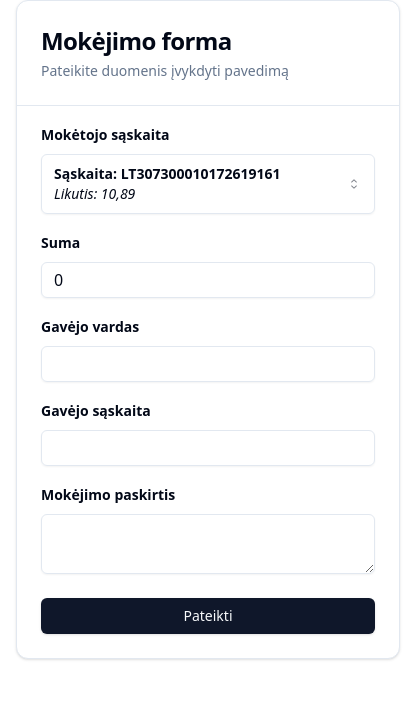
PaymentForm: Validator › should fail when amount format is not supported
Type "10.000,00" into the field labelled "Suma" at {"x": 208, "y": 280}, box [41,262,375,298]
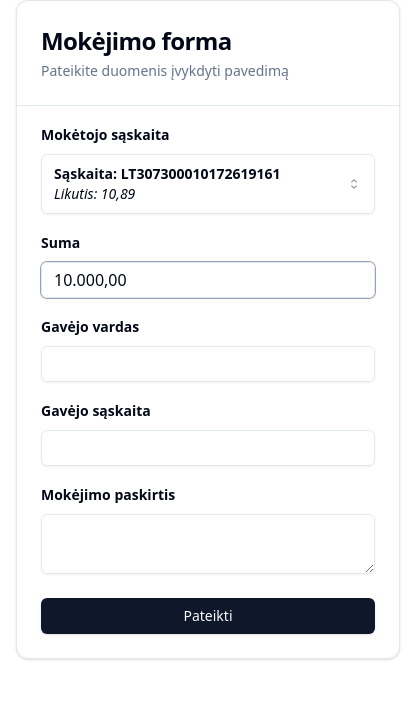
Type "LT307300010172619164" into the field labelled "Gavėjo sąskaita" at {"x": 208, "y": 448}, box [41,430,375,466]
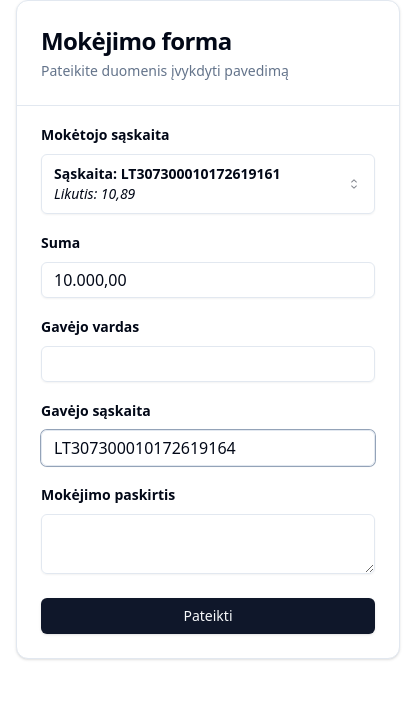
Type "Ona Marija" into the field labelled "Gavėjo vardas" at {"x": 208, "y": 364}, box [41,346,375,382]
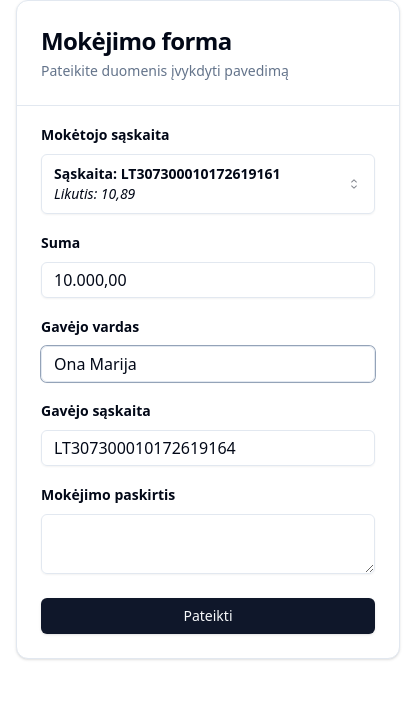
Type "Loan" into the text box labelled "Mokėjimo paskirtis" at {"x": 208, "y": 544}, box [41,514,375,574]
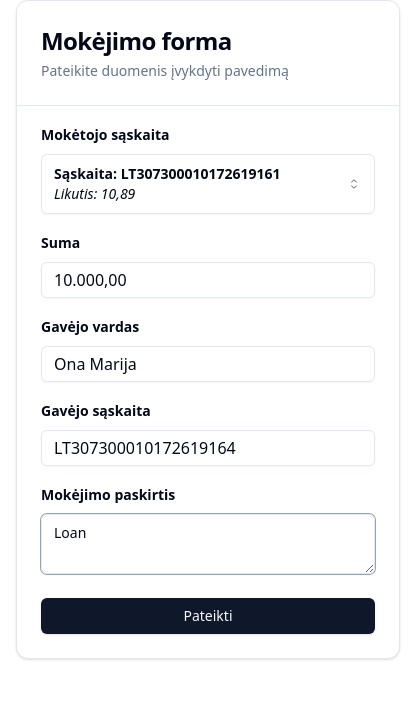
Click the button "Pateikti" at {"x": 208, "y": 616}, box [41,598,375,634]
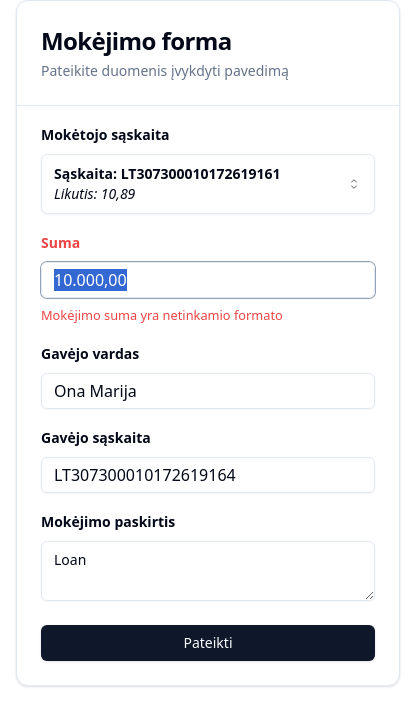
Result: the text "Mokėjimo suma yra netinkamio formato" is shown at [41,306,283,324]
